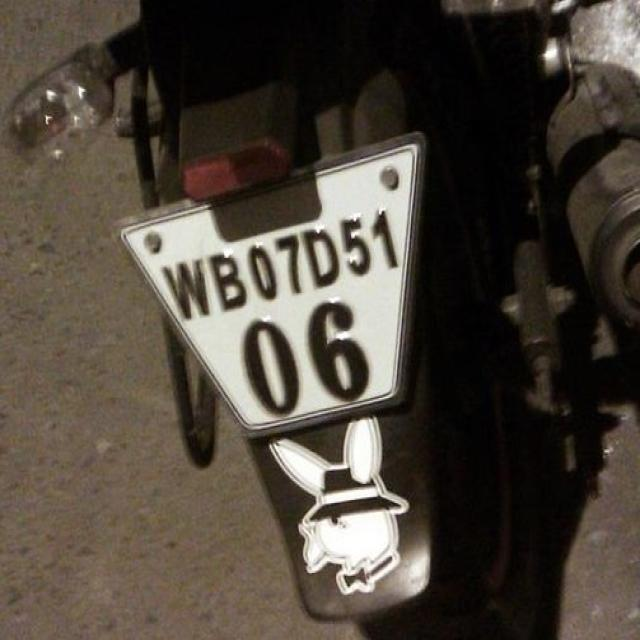number_plate: (140, 192, 406, 416)
